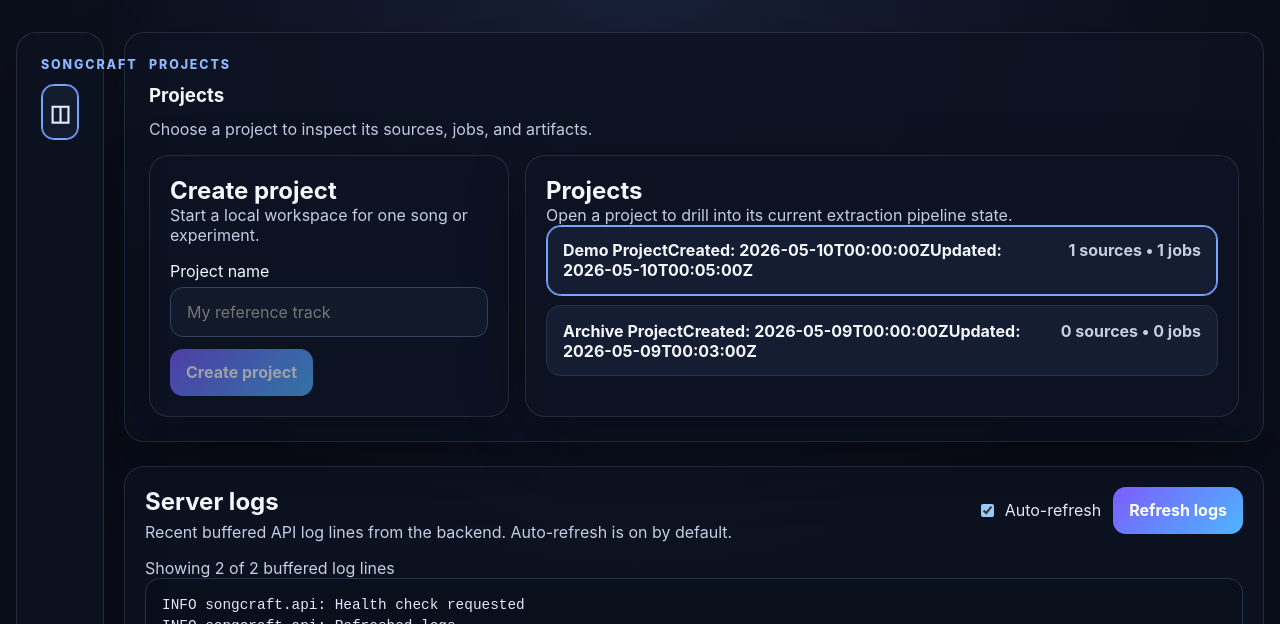
Scenario: App › renders project, source, and job timestamps
Click the button with aria-label "Open project Demo Project" at (882, 260), box [546,225,1218,296]
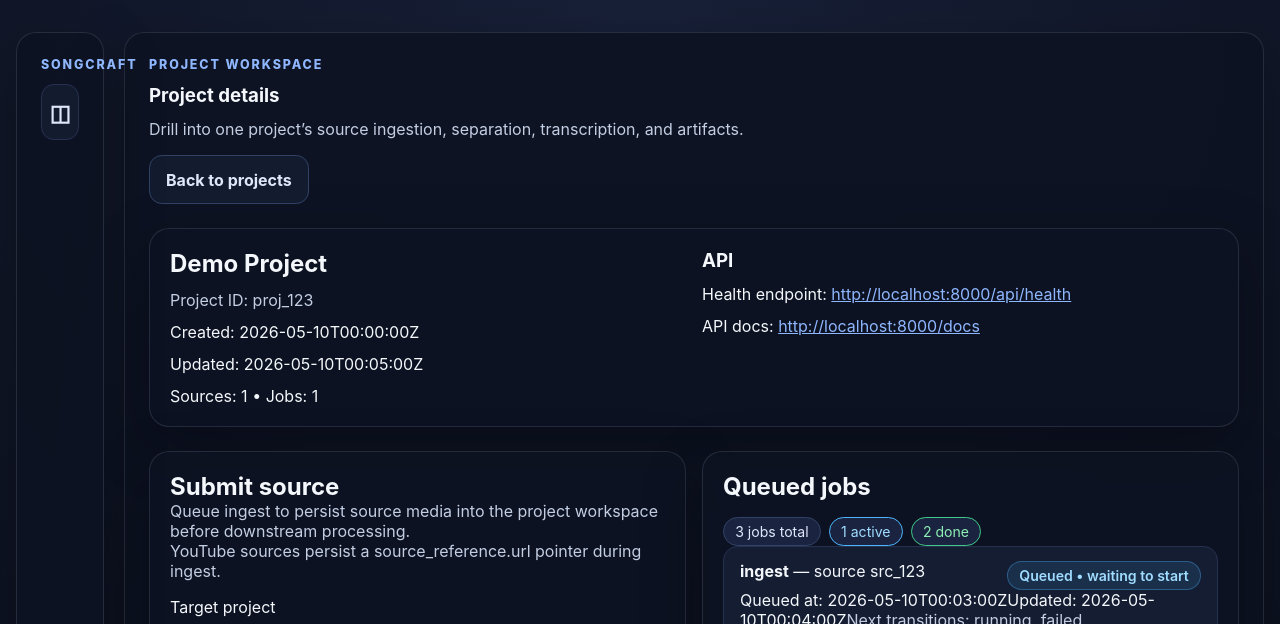
Check: the text "Created: 2026-05-10T00:00:00Z" is shown, box [170,322,419,342]
Check: the heading "Project details" is shown, box [149,84,280,107]
Check: the text "Queued at: 2026-05-10T00:03:00Z" is shown, box [740,590,1007,610]
